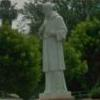Statue: (29, 2, 77, 100)
